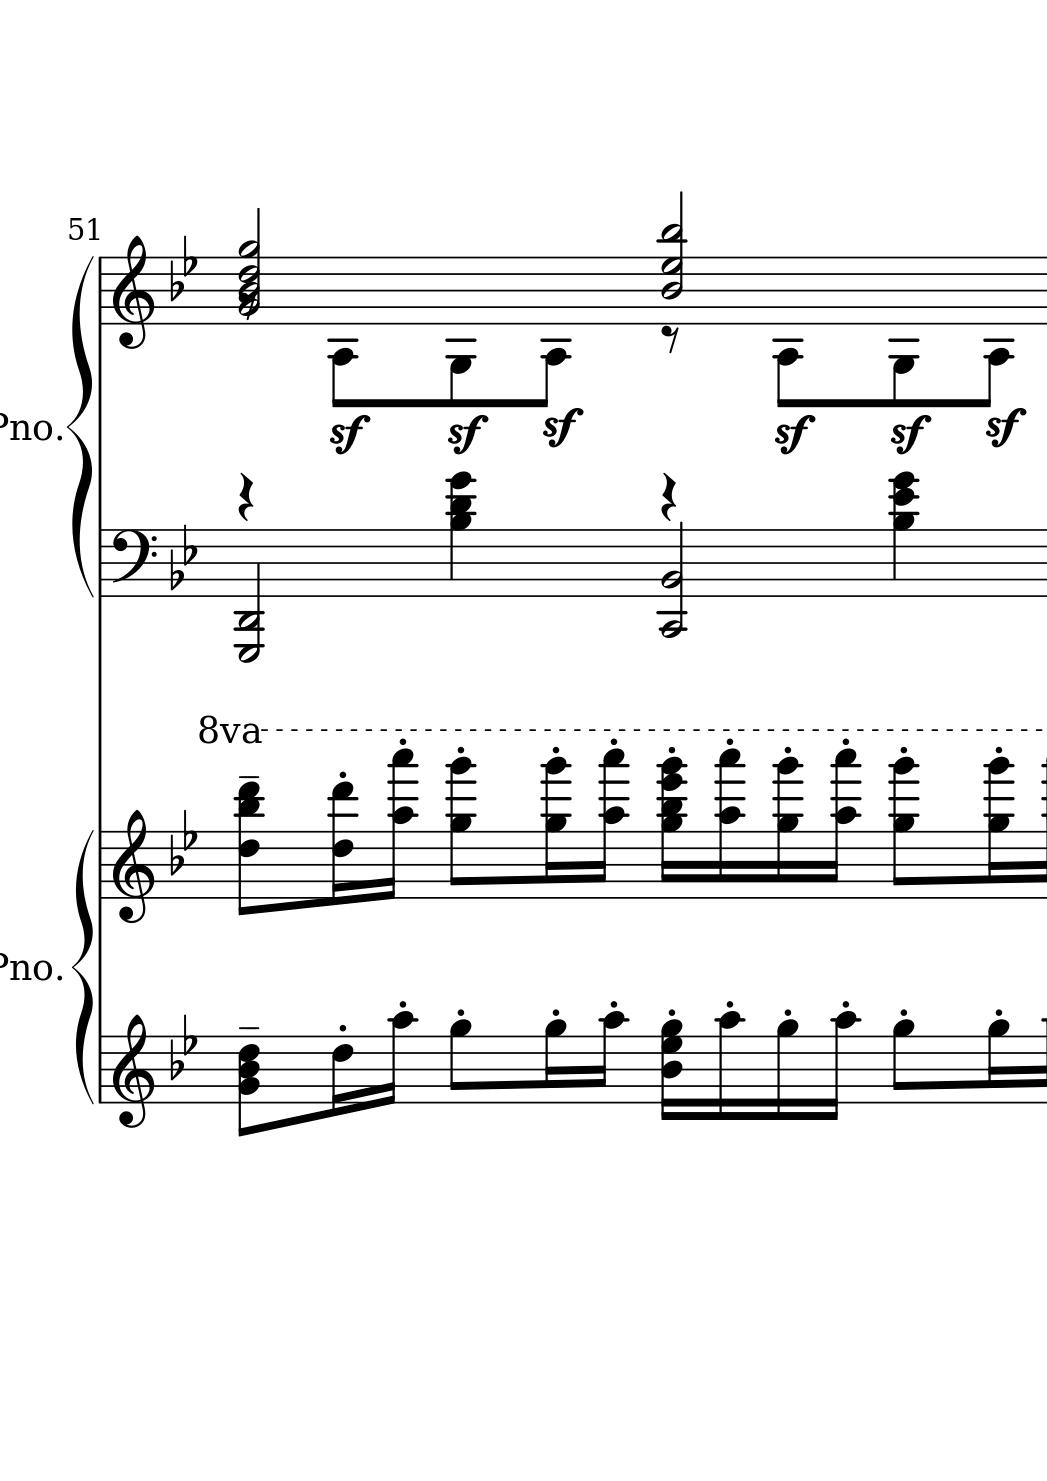1: (85, 214, 101, 242)
16_10: (823, 1008, 860, 1123), (380, 1010, 415, 1108), (715, 1008, 744, 1124), (593, 1011, 625, 1107)
16_10_17: (375, 749, 419, 903), (591, 748, 631, 900), (824, 748, 860, 901), (713, 748, 749, 900)
16_6: (330, 1033, 354, 1117)
16_6_13: (327, 780, 358, 907)
16_9: (773, 1018, 799, 1122), (543, 1019, 567, 1106), (986, 1019, 1010, 1105)
16_9_16: (538, 756, 572, 901), (771, 755, 805, 900), (982, 756, 1016, 901)
16_th: (655, 754, 686, 900), (657, 1018, 686, 1122)
2_-4_2: (658, 522, 691, 638)
2_-7_-3: (235, 528, 265, 666)
2_4th: (236, 210, 262, 326)
2_th: (658, 189, 686, 322)
4_th: (444, 468, 476, 598), (887, 468, 919, 598)
5: (66, 214, 84, 242)
8_-4: (537, 254, 572, 407), (980, 253, 1015, 406), (329, 255, 358, 408), (775, 255, 805, 408)
8_-5: (448, 254, 477, 407), (891, 254, 920, 407)
8_9: (446, 1018, 473, 1107), (889, 1018, 916, 1107)
8_9_16: (446, 755, 480, 901), (887, 756, 921, 902)
8_th: (235, 777, 263, 918), (235, 1033, 263, 1140)
B_F: (168, 235, 198, 303), (168, 808, 198, 876), (168, 1012, 198, 1080), (168, 524, 197, 590)
Brace: (63, 247, 96, 598), (71, 826, 94, 1110)
Fclef: (109, 527, 158, 598)
Gclef: (110, 233, 155, 351), (110, 1013, 155, 1130), (111, 808, 155, 925)
Rests4: (236, 471, 255, 522), (658, 471, 678, 521)
Rests8: (658, 324, 681, 354)
Single_barline: (94, 256, 108, 325), (94, 831, 108, 899), (94, 530, 108, 596), (95, 1036, 107, 1103)
sf: (539, 405, 584, 450), (327, 412, 371, 456), (982, 407, 1025, 450), (445, 412, 487, 456), (773, 412, 815, 456), (888, 414, 930, 456)
